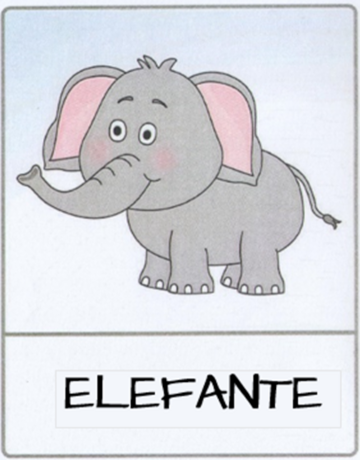elefante: (4, 26, 360, 452)
